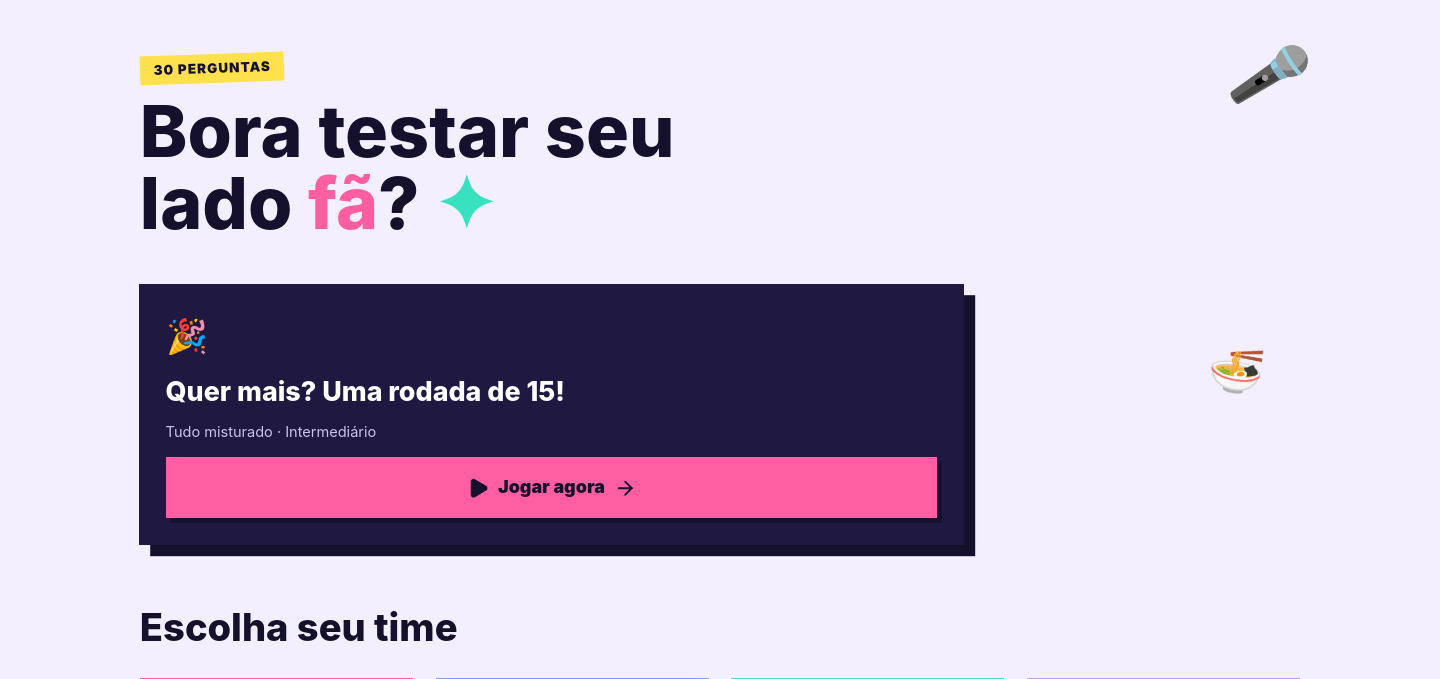
Scenario: QuizClient — capa › começa a partida ao clicar em começar
Click the button "Jogar agora". click: x=551, y=488
box: [166,458,937,518]
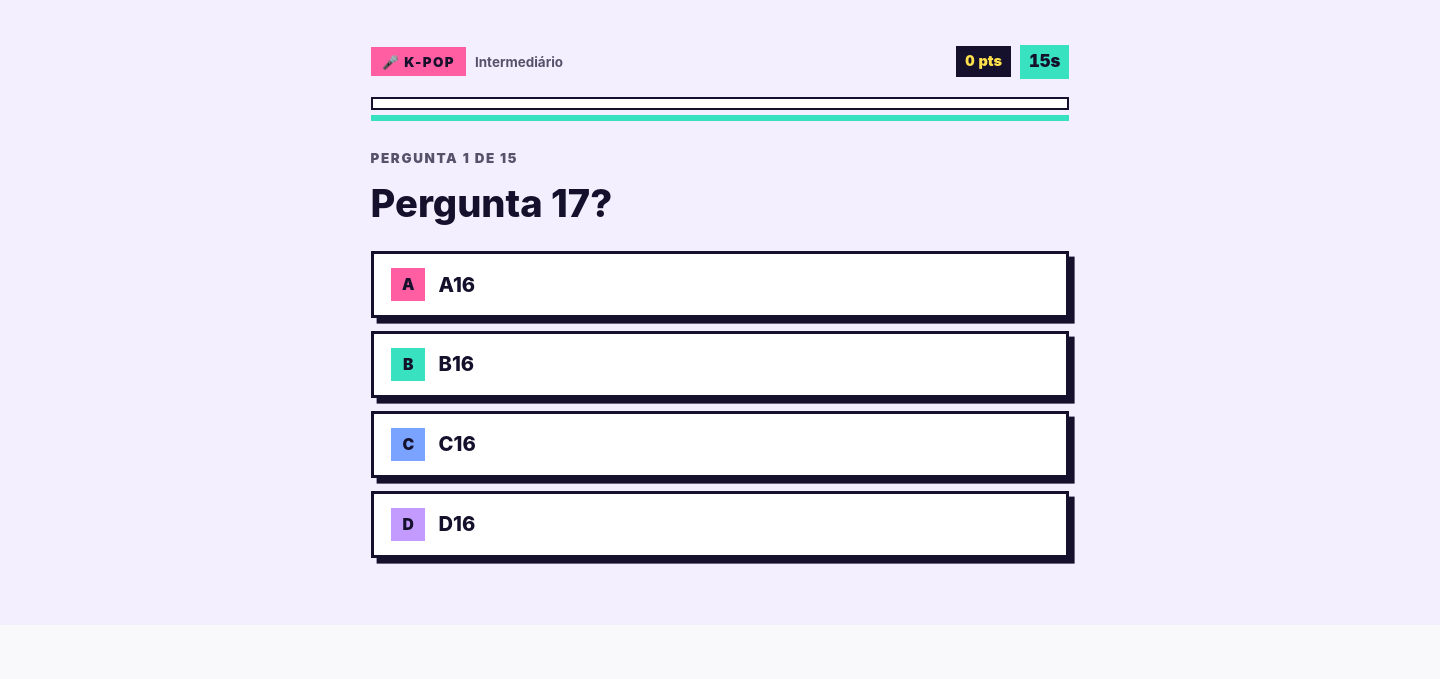
Expected: the text "Pergunta 1 de 15" is shown, [371,150,518,166]
